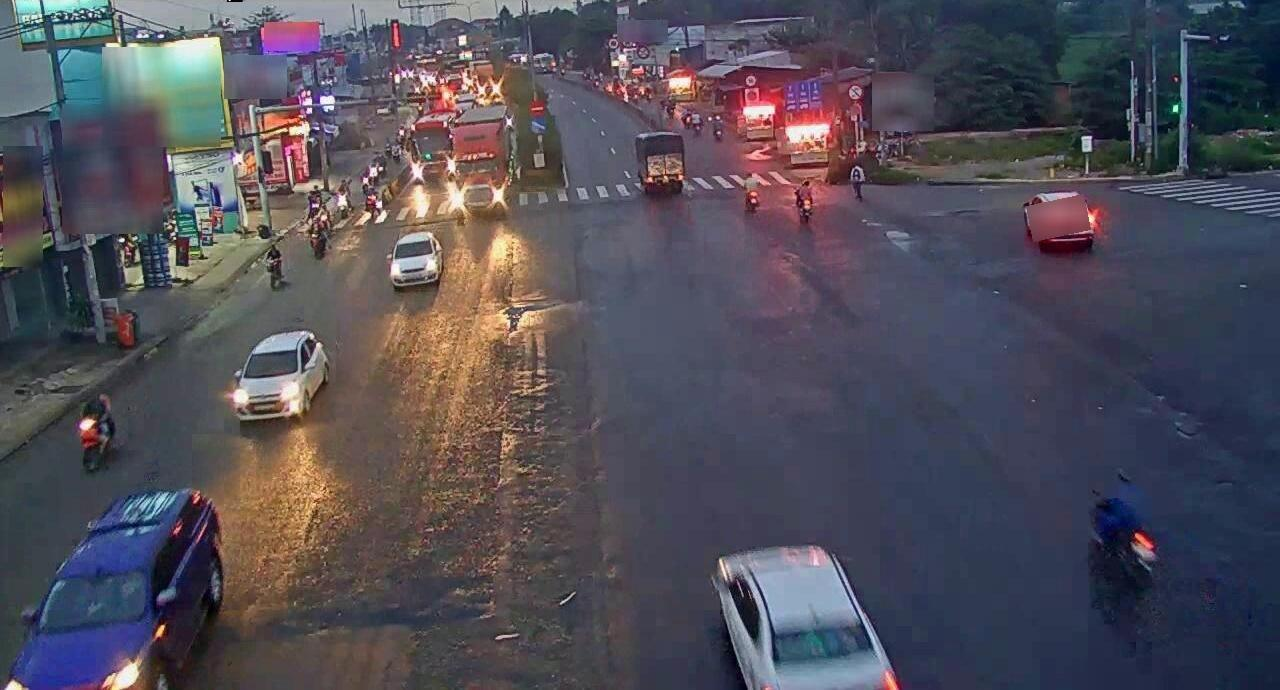xe hoi: (0, 487, 215, 690), (709, 534, 899, 689), (234, 335, 325, 421), (1020, 189, 1095, 251), (388, 229, 437, 283)
xe may: (1087, 469, 1154, 579), (73, 384, 117, 474)
xe tai: (633, 125, 691, 199)
